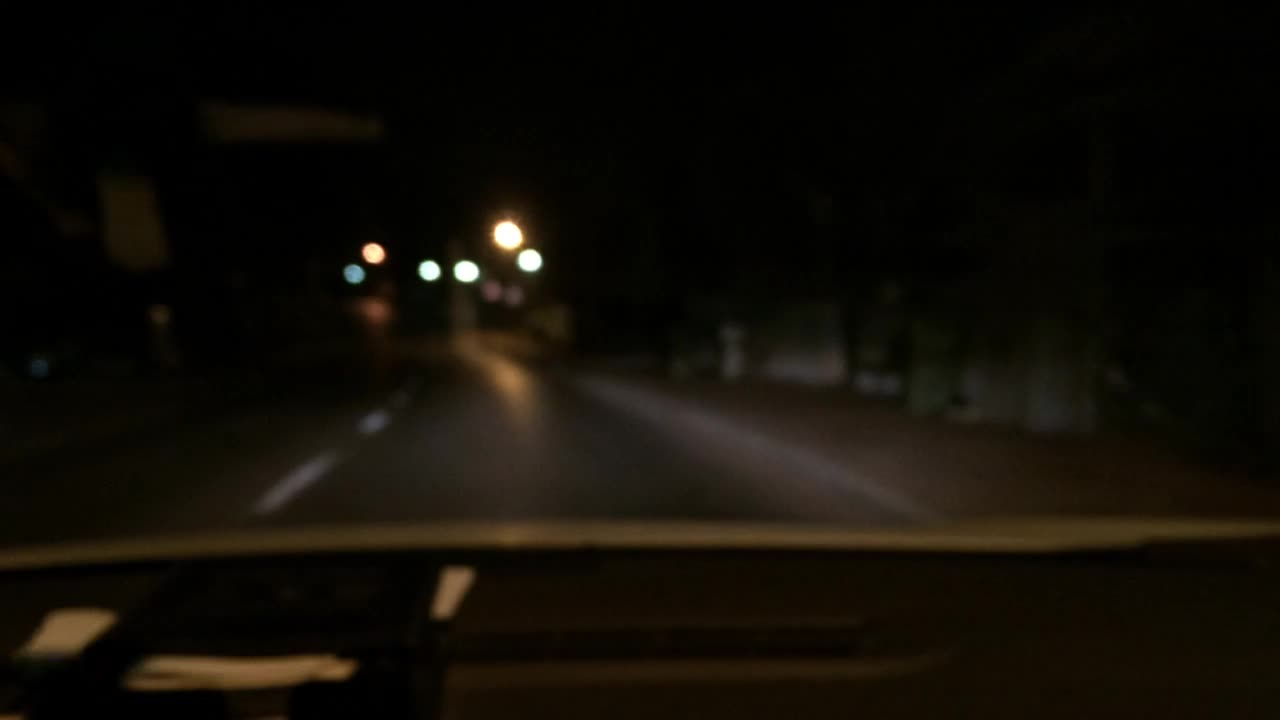car: (0, 300, 189, 386), (256, 282, 401, 393)
traffic light: (454, 259, 481, 284), (416, 256, 441, 282), (517, 246, 540, 273), (342, 259, 365, 285)
